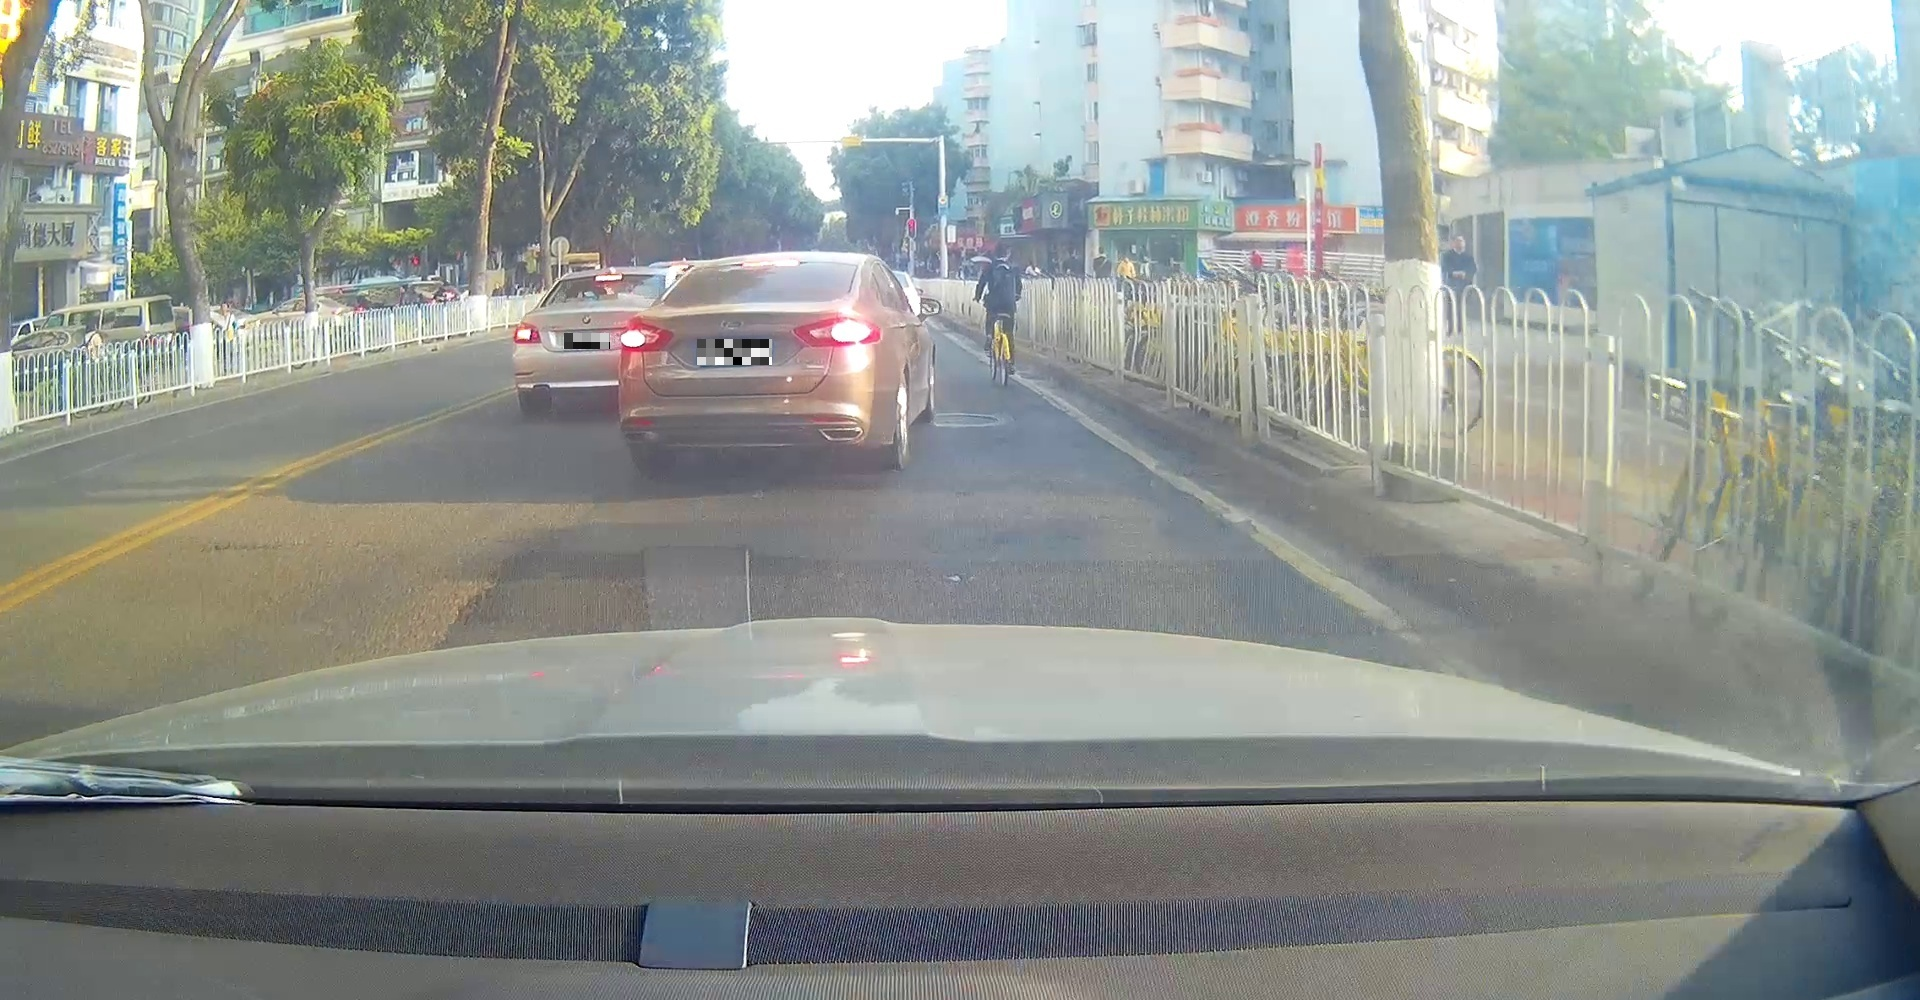L_light: (618, 322, 673, 352)
R_light: (792, 316, 883, 348)
T_light: (742, 261, 800, 266)
day-brake: (618, 250, 881, 473)
plate_1: (564, 332, 610, 349)
plate_2: (697, 339, 772, 365)
